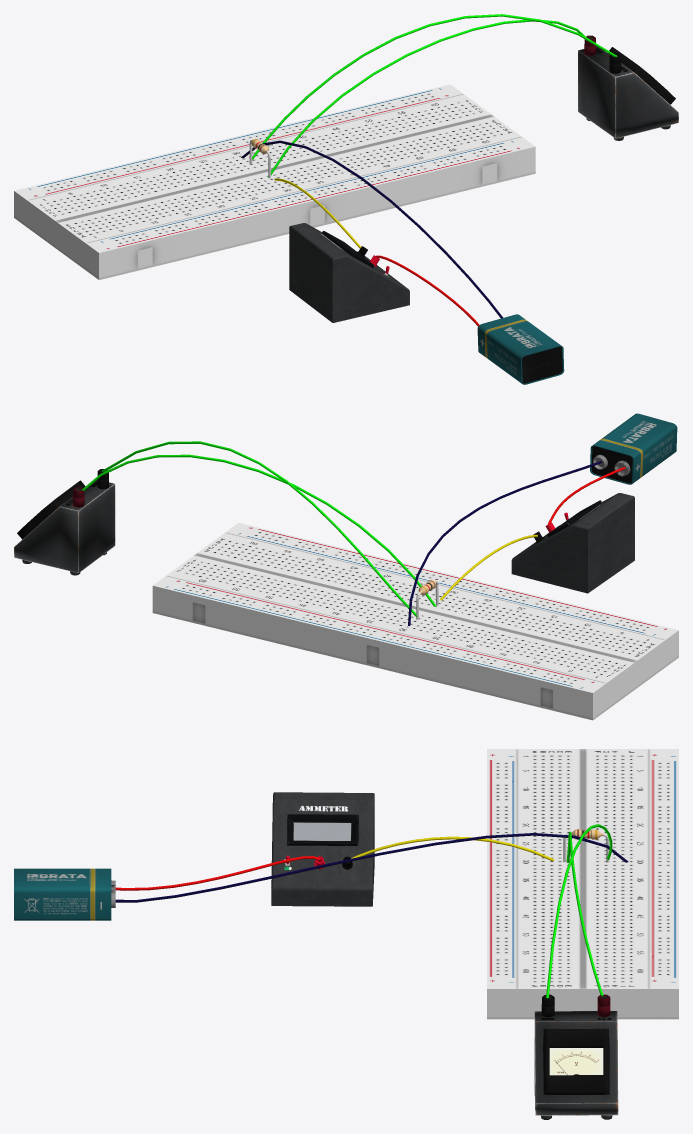
File: ohms-law.glb
The picture shows the model from 3 angles, top to bottom: view 1: azimuth 30°, elevation 25°; view 2: azimuth 150°, elevation 25°; view 3: azimuth 270°, elevation 25°; orthographic projection. The views are drawn at different scales.
Visible parts, largest first — view 1: LP_breadboard_0, pCube1_Ammeter_0, Object_2, BézierCurve, 9V_Battery_Mat_Varta.001_0; view 2: LP_breadboard_0, pCube1_Ammeter_0, Object_2, BézierCurve, 9V_Battery_Mat_Varta.001_0; view 3: LP_breadboard_0, pCube1_Ammeter_0, Object_2, 9V_Battery_Mat_Varta.001_0, BézierCurve, Object_3.
Part boxes in pixels (bbox=[...]): LP_breadboard_0: bbox=[14, 84, 535, 279]; pCube1_Ammeter_0: bbox=[289, 223, 409, 322]; Object_2: bbox=[578, 46, 678, 140]; BézierCurve: bbox=[241, 14, 616, 326]; 9V_Battery_Mat_Varta.001_0: bbox=[477, 314, 564, 384]; LP_breadboard_0: bbox=[152, 522, 678, 720]; pCube1_Ammeter_0: bbox=[511, 493, 634, 593]; Object_2: bbox=[14, 480, 115, 575]; BézierCurve: bbox=[82, 441, 625, 625]; 9V_Battery_Mat_Varta.001_0: bbox=[590, 413, 677, 484]; LP_breadboard_0: bbox=[487, 749, 678, 1019]; pCube1_Ammeter_0: bbox=[271, 792, 374, 906]; Object_2: bbox=[534, 1011, 618, 1119]; 9V_Battery_Mat_Varta.001_0: bbox=[14, 868, 115, 920]; BézierCurve: bbox=[115, 824, 628, 997]; Object_3: bbox=[541, 994, 610, 1075].
Bounding box in the file's own units: 1.12 × 0.2626 × 0.9518.
6 materials, 6 textured.
